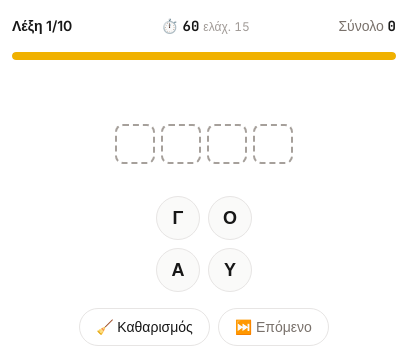
Scenario: LeksodromiaBoard › filling the last slot auto-submits a correct word and advances
What coordinates should you click on to do the following:
click the button "α"
I would click on:
 (178, 270)
Its box is [156, 248, 200, 292].
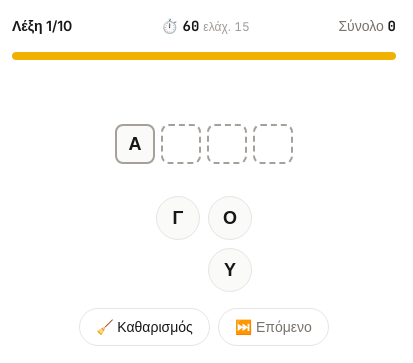
What coordinates should you click on to do the following:
click the button "υ"
I would click on:
 (230, 270)
Its box is [208, 248, 252, 292].
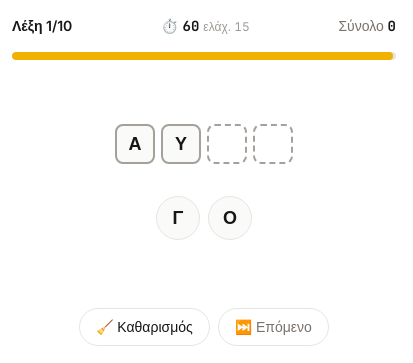
What coordinates should you click on to do the following:
click the button "γ"
I would click on:
 (178, 218)
Its box is [156, 196, 200, 240].
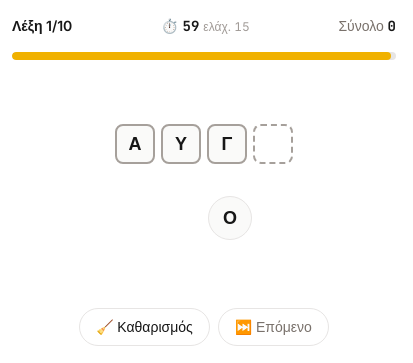
What coordinates should you click on to do the following:
click the button "ο"
I would click on:
 (230, 218)
Its box is [208, 196, 252, 240].
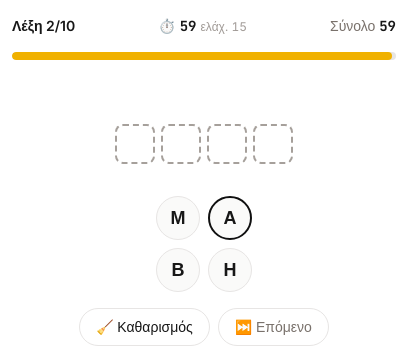
expect the text "Λέξη 2/10" is shown: met, box [12, 16, 75, 36]
